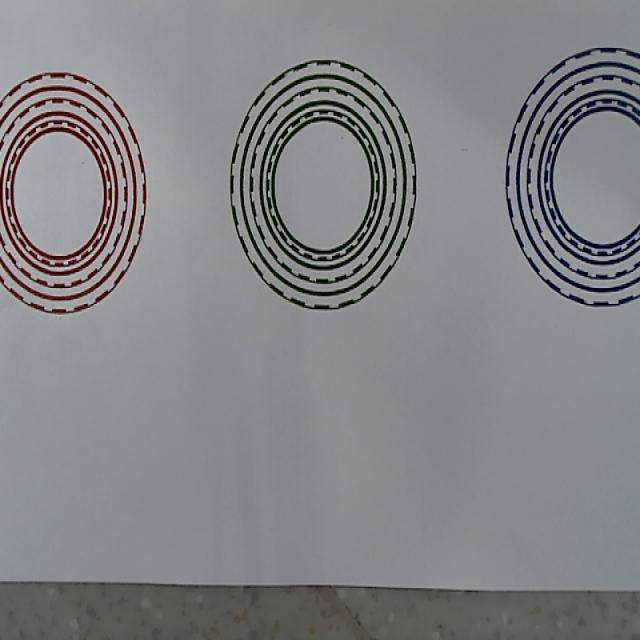g: (230, 58, 417, 311)
